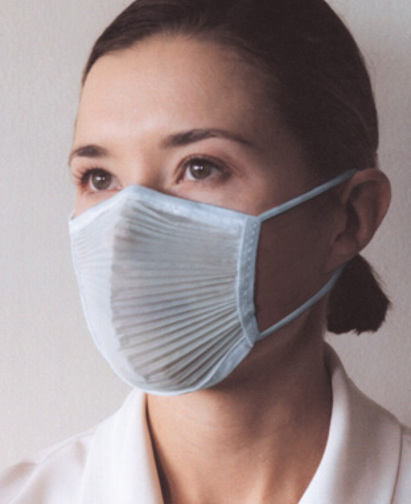mask: (64, 201, 271, 397)
